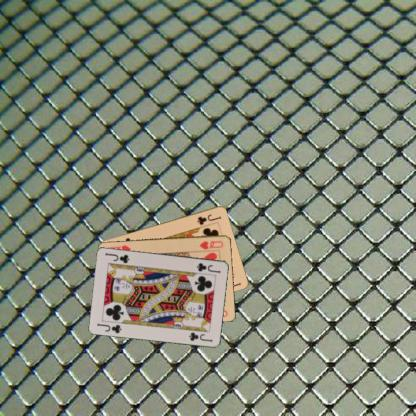Jc: (195, 211, 222, 226), (95, 320, 122, 335), (194, 260, 222, 274)
Qh: (197, 237, 225, 251)
